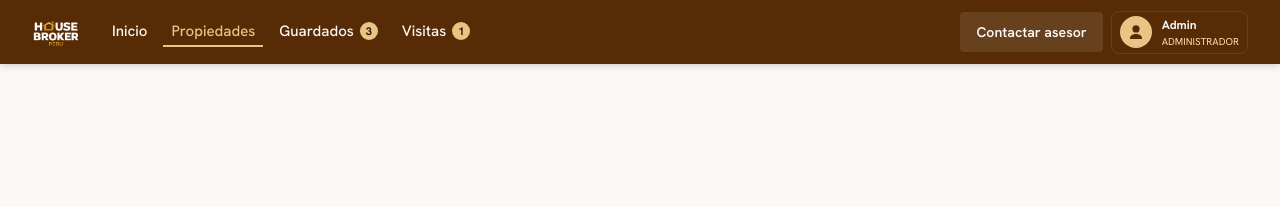
Test: Componente Header (Pruebas Unitarias) › despliega el menú de usuario y permite cerrar sesión con signOut
This screenshot has width=1280, height=207.
Later steps or results of the test are not shown.
# Abrir menú de usuario
Click the text "Admin": click(1200, 32) [1162, 16, 1239, 48]
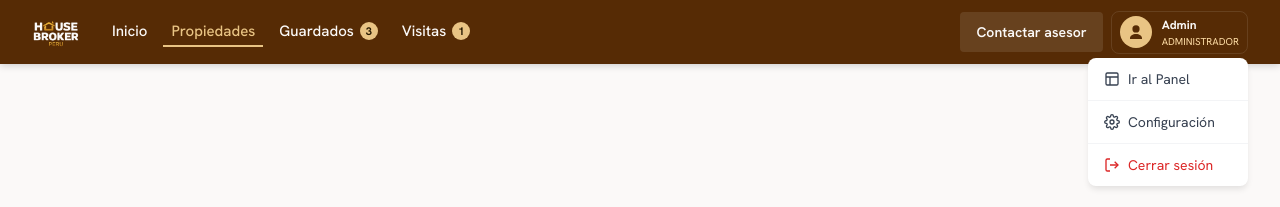
Now the button "Ir al Panel" is shown, box [1088, 58, 1248, 101]
Now the button "Cerrar sesión" is shown, box [1088, 144, 1248, 186]
